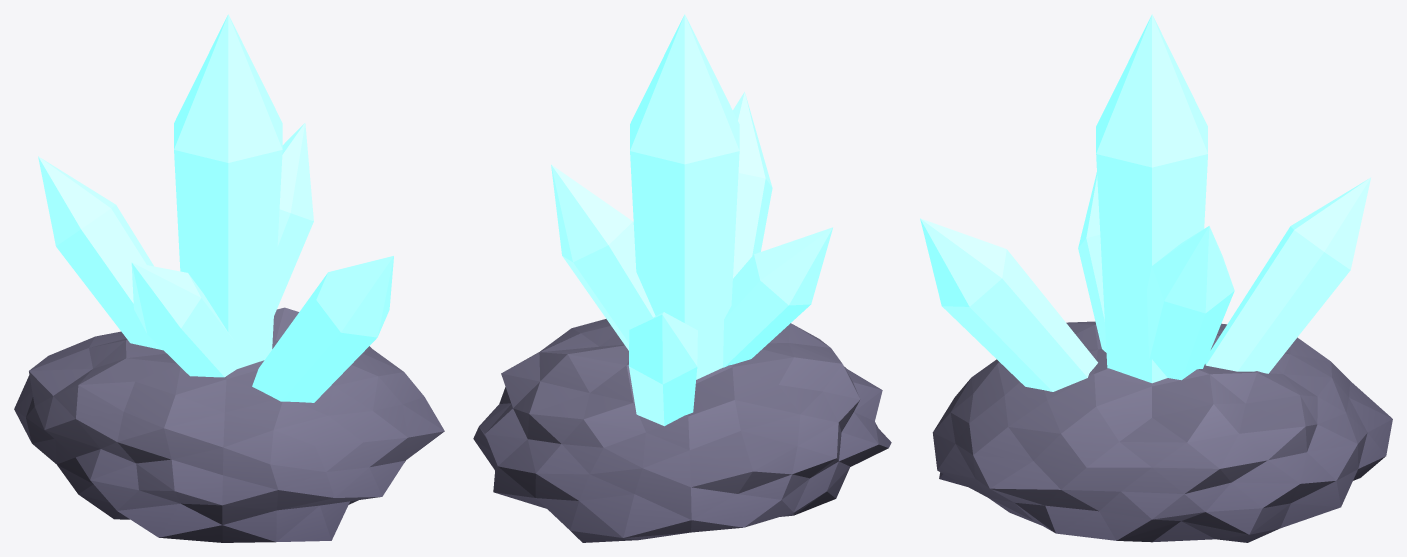
The model's file is crystal_cyan.glb.
3 renders of one model, left to right at view 1: azimuth 30°, elevation 25°; view 2: azimuth 150°, elevation 25°; view 3: azimuth 270°, elevation 25°, orthographic. The views are drawn at different scales.
Visible parts, largest first — view 1: crystal_cyan; view 2: crystal_cyan; view 3: crystal_cyan.
Boxes of the visible parts, x1,y1,x2,y2 form: crystal_cyan: (14, 14, 444, 542); crystal_cyan: (473, 14, 891, 542); crystal_cyan: (920, 14, 1392, 542).
Bounding box in the file's own units: 1.06 × 1.4 × 1.24.
